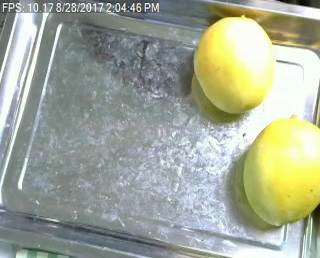Mango: (241, 115, 320, 226), (189, 12, 274, 115)
